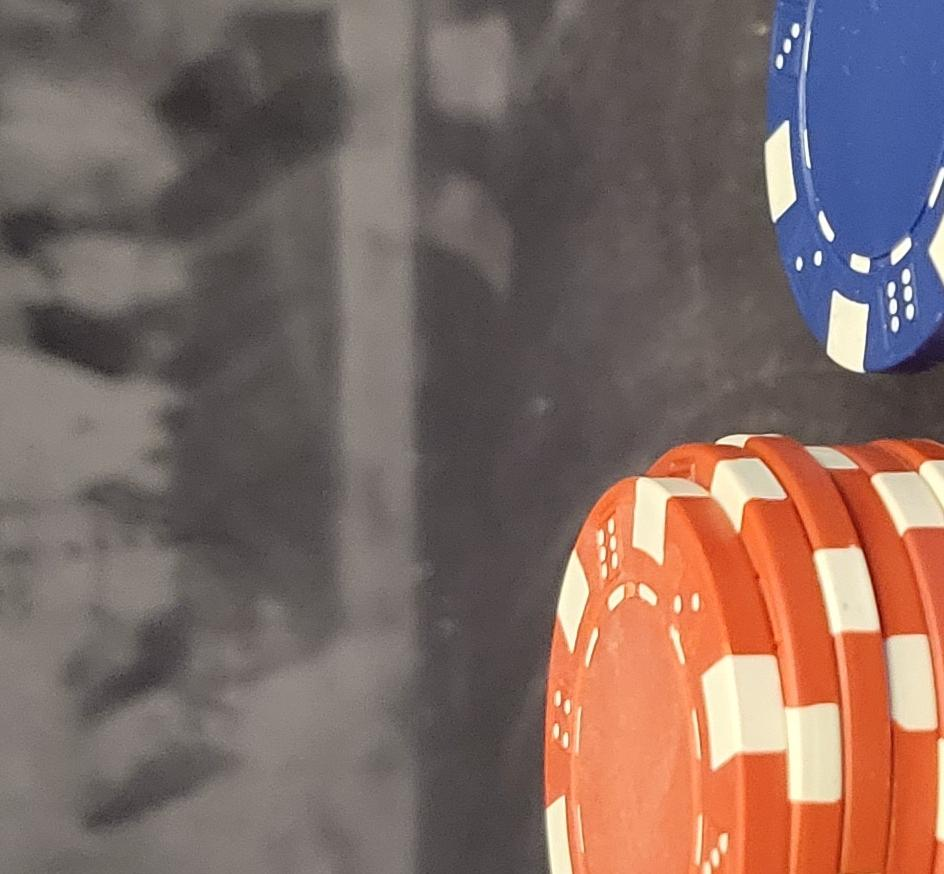Chip: (1, 366, 440, 874)
